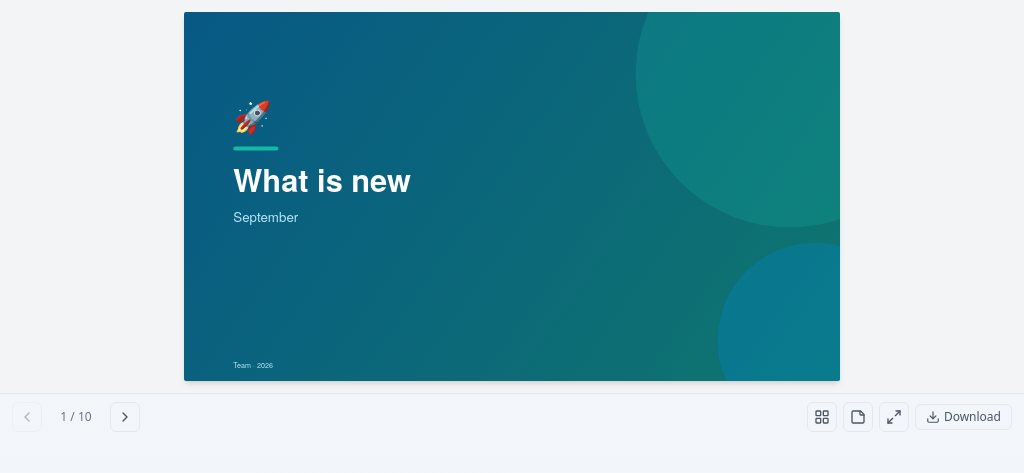
SlidesView › says when the .pptx could not be built
This screenshot has width=1024, height=473.
Step 1. Click the button "Download" → (963, 418), box left=915, top=404, right=1012, bottom=430
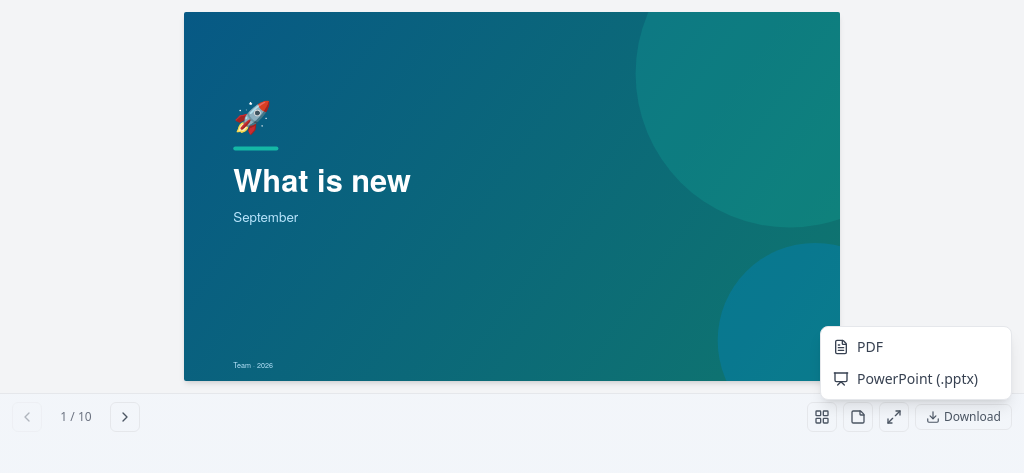
Step 2. Click the menu item "PowerPoint (.pptx)" → (916, 380), box left=821, top=364, right=1011, bottom=396
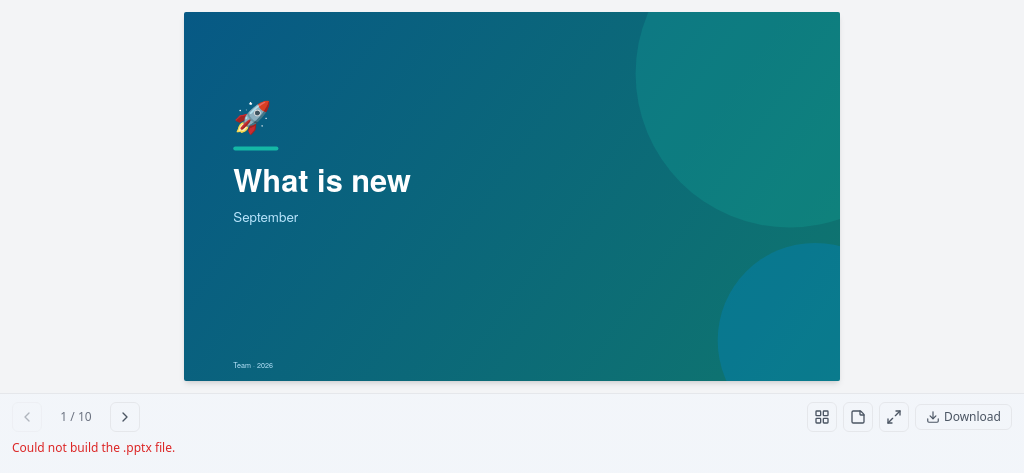
Expected: the message shows "Could not build", left=12, top=440, right=175, bottom=456
